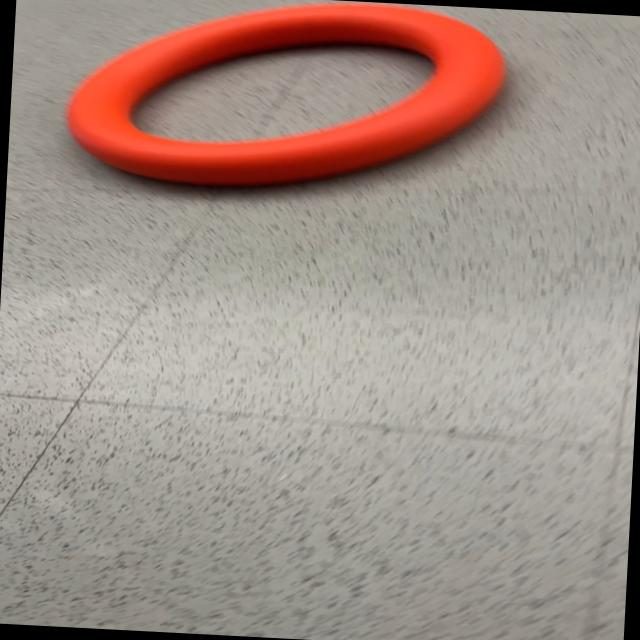note: (61, 0, 511, 202)
